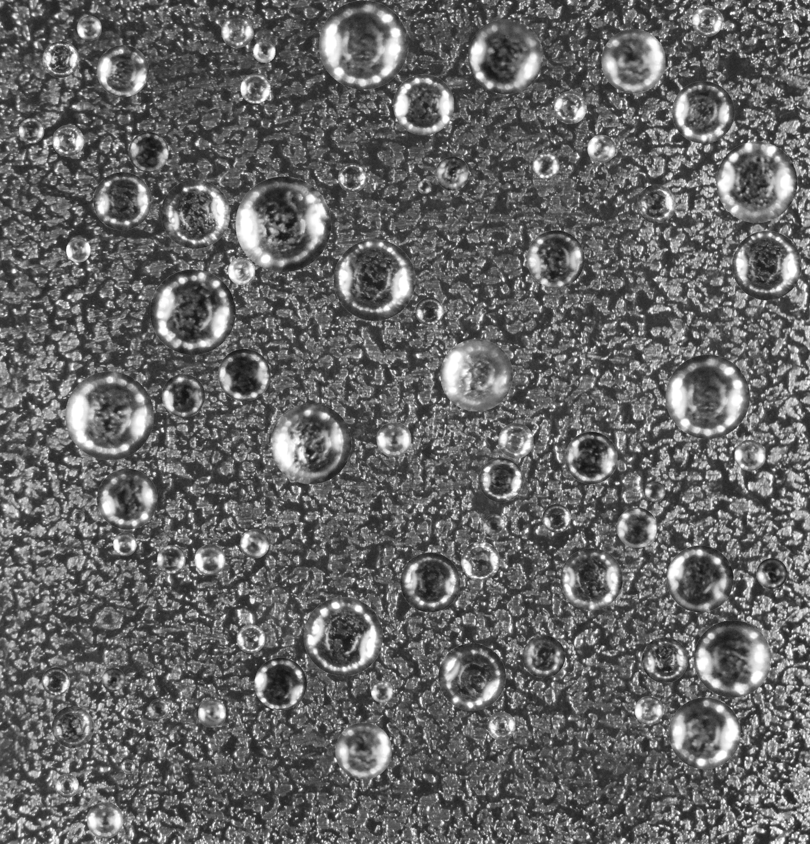Bubble: (235, 176, 331, 272), (319, 0, 408, 89), (65, 371, 153, 460), (150, 269, 235, 354), (665, 354, 749, 438), (333, 239, 415, 320), (716, 141, 797, 222), (270, 403, 351, 484), (303, 597, 382, 676), (694, 620, 771, 697), (468, 19, 543, 93), (440, 339, 512, 411), (669, 697, 740, 769), (732, 230, 801, 300), (160, 179, 229, 248), (666, 545, 733, 612), (438, 643, 505, 710), (601, 29, 665, 93), (672, 81, 734, 143), (560, 548, 622, 610), (393, 74, 454, 135), (96, 468, 157, 529), (400, 552, 460, 612), (93, 172, 151, 230), (527, 230, 584, 287), (335, 722, 391, 779), (565, 431, 617, 484), (218, 348, 270, 401), (254, 657, 306, 710), (97, 45, 148, 96), (642, 637, 687, 683), (479, 458, 523, 502), (522, 635, 565, 678), (161, 374, 204, 417), (51, 706, 93, 748), (616, 507, 657, 547), (128, 132, 168, 172), (637, 184, 675, 223), (461, 541, 499, 580), (42, 41, 79, 77), (86, 802, 123, 838), (498, 423, 533, 458), (376, 422, 411, 456), (435, 156, 469, 190), (221, 15, 253, 47), (554, 91, 586, 123), (756, 558, 787, 589), (194, 544, 225, 575), (52, 125, 83, 156), (734, 439, 765, 470), (692, 5, 722, 36), (240, 73, 270, 103), (240, 529, 269, 558), (236, 624, 265, 653), (634, 696, 663, 724), (197, 699, 226, 727), (41, 667, 70, 695), (338, 163, 366, 192), (587, 134, 615, 162), (542, 504, 570, 532), (157, 545, 185, 573), (487, 712, 515, 740), (415, 297, 443, 325), (228, 257, 255, 284), (533, 152, 559, 178), (18, 118, 44, 143), (76, 15, 101, 40), (66, 238, 90, 262), (113, 532, 136, 556), (101, 668, 125, 691), (55, 774, 78, 797), (371, 680, 393, 702), (253, 40, 275, 62), (483, 514, 504, 535), (645, 481, 665, 501), (148, 699, 168, 719), (783, 21, 799, 37), (121, 759, 135, 773), (417, 180, 431, 193), (72, 510, 84, 523)
